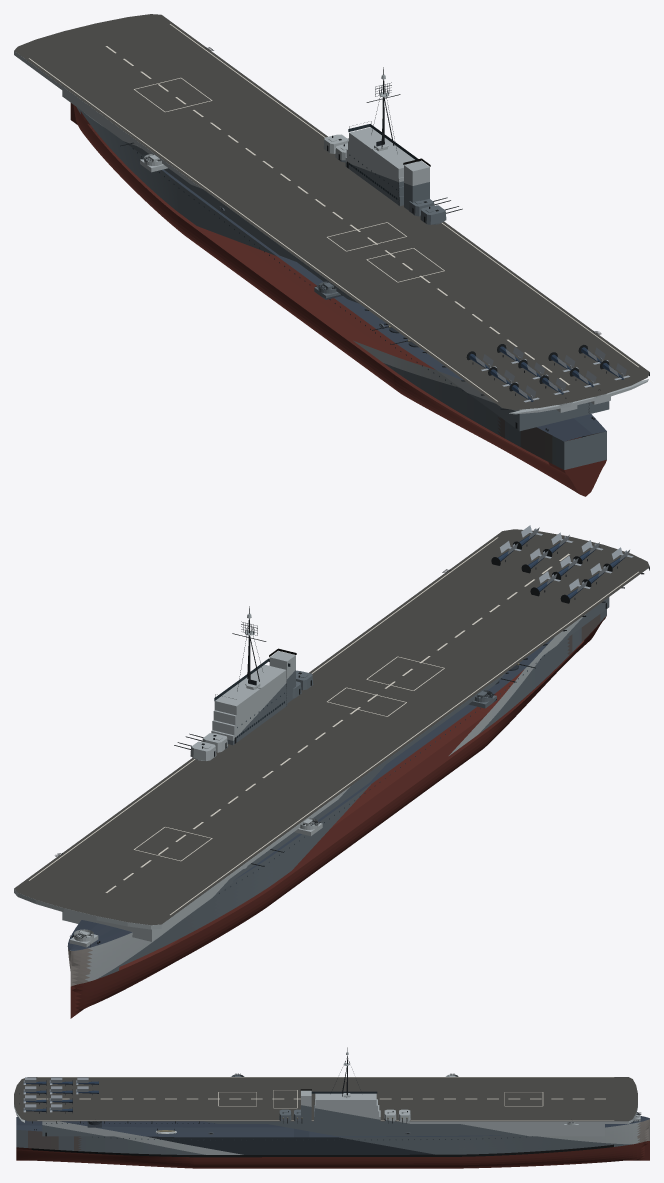
The model's file is essex_m22.glb.
The picture shows the model from 3 angles, top to bottom: view 1: azimuth 30°, elevation 25°; view 2: azimuth 150°, elevation 25°; view 3: azimuth 270°, elevation 25°; orthographic projection. The views are drawn at different scales.
Visible parts, largest first — view 1: Hull; view 2: Hull; view 3: Hull.
Boxes of the visible parts, x1=… form: Hull: x1=14, y1=14, x2=649, y2=496; Hull: x1=14, y1=529, x2=649, y2=1018; Hull: x1=14, y1=1047, x2=649, y2=1168.
Bounding box in the file's own units: 54.2 × 61.66 × 267.
